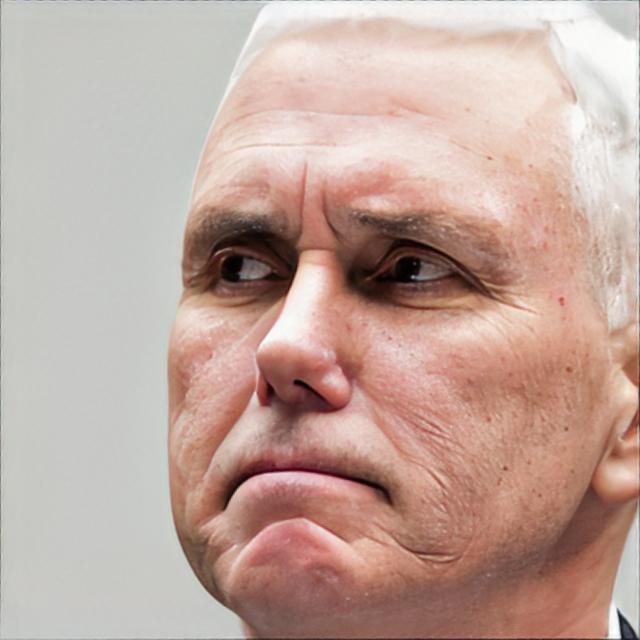anger: (169, 46, 590, 592)
